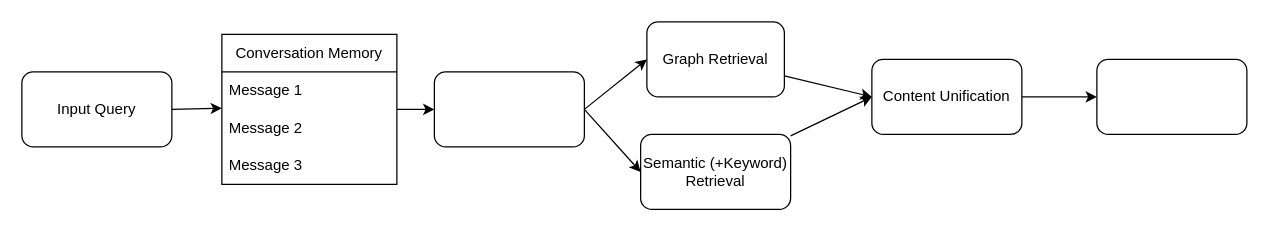
This 1269x231 diagram has some shape labels left out. The shapes that lost their labels are listed below. From the top down, each one's centre as x and y in pixels, then its label:
At point (508, 109): "Summariser + Rewritter".
At point (1171, 96): "Conversational LLM".
